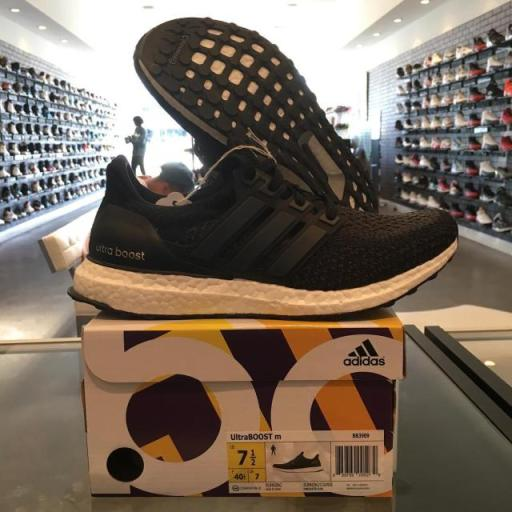Adidas: (341, 337, 387, 369)
